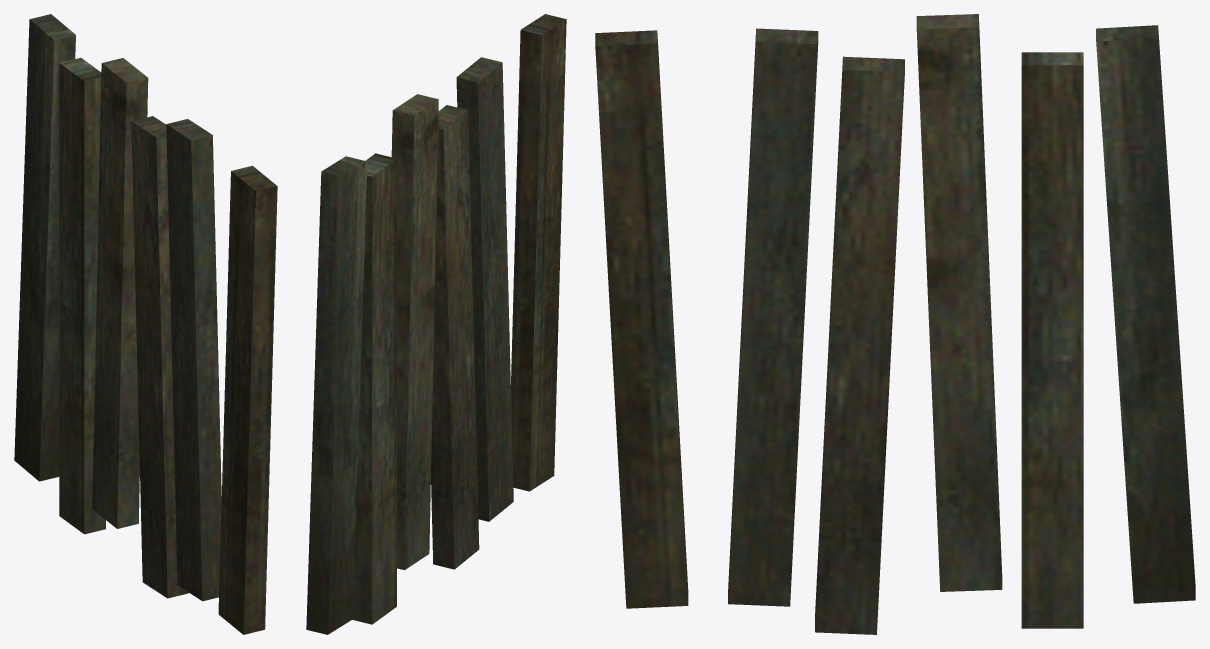
The model's file is tdr_d_woodenbarrier.obj.
3 renders of one model, left to right at view 1: azimuth 30°, elevation 25°; view 2: azimuth 150°, elevation 25°; view 3: azimuth 270°, elevation 25°, orthographic. The views are drawn at different scales.
Parts seen in each view (by area): view 1: Cube.002; view 2: Cube.002; view 3: Cube.002.
Boxes of the visible parts, x1,y1,x2,y2 form: Cube.002: (14, 14, 277, 634); Cube.002: (306, 14, 566, 634); Cube.002: (595, 14, 1195, 634).
Bounding box in the file's own units: 32 × 691 × 618.
